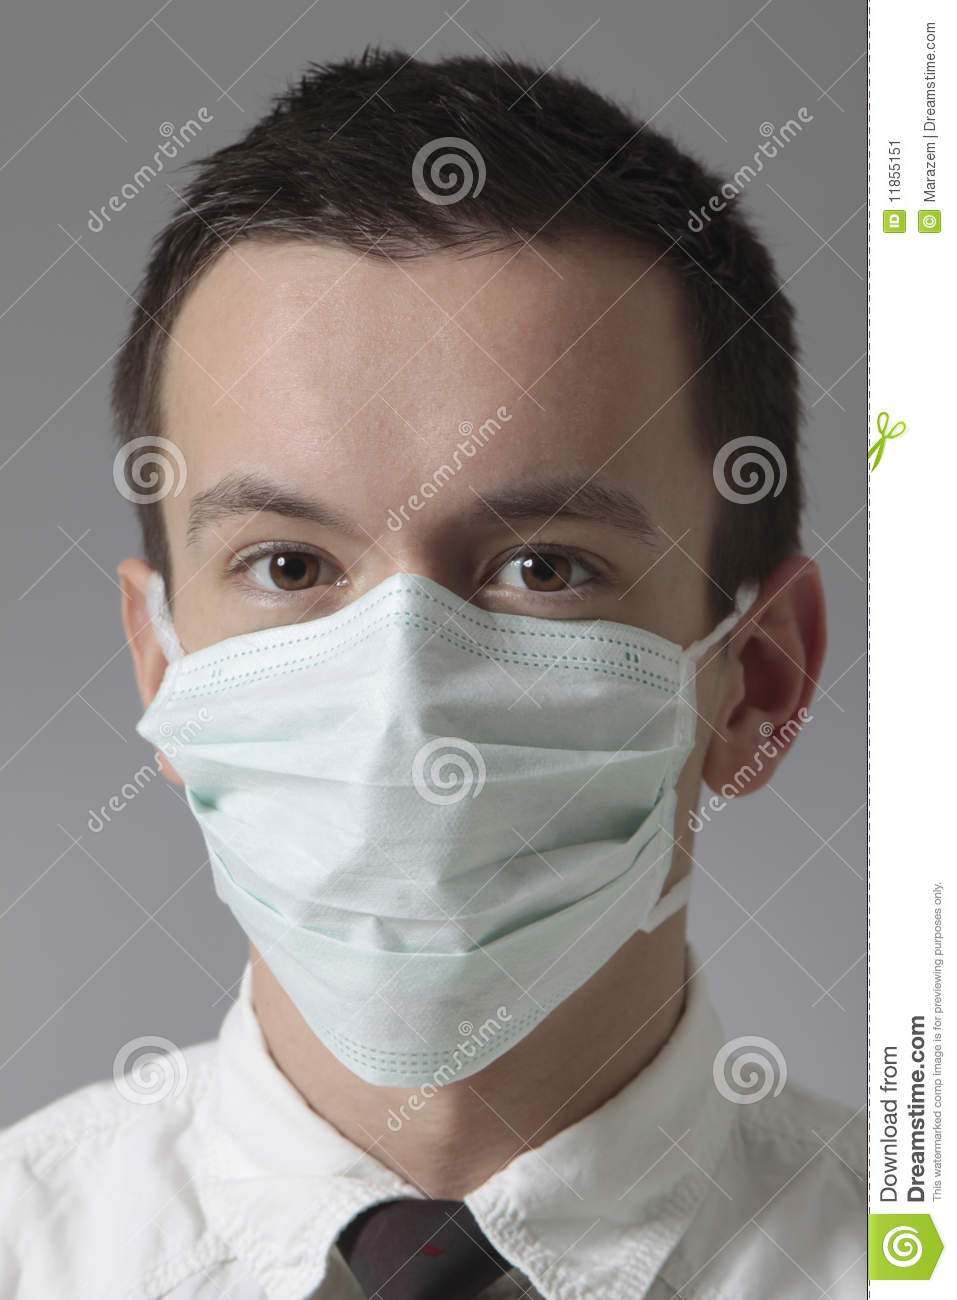mask: (138, 587, 702, 1078)
